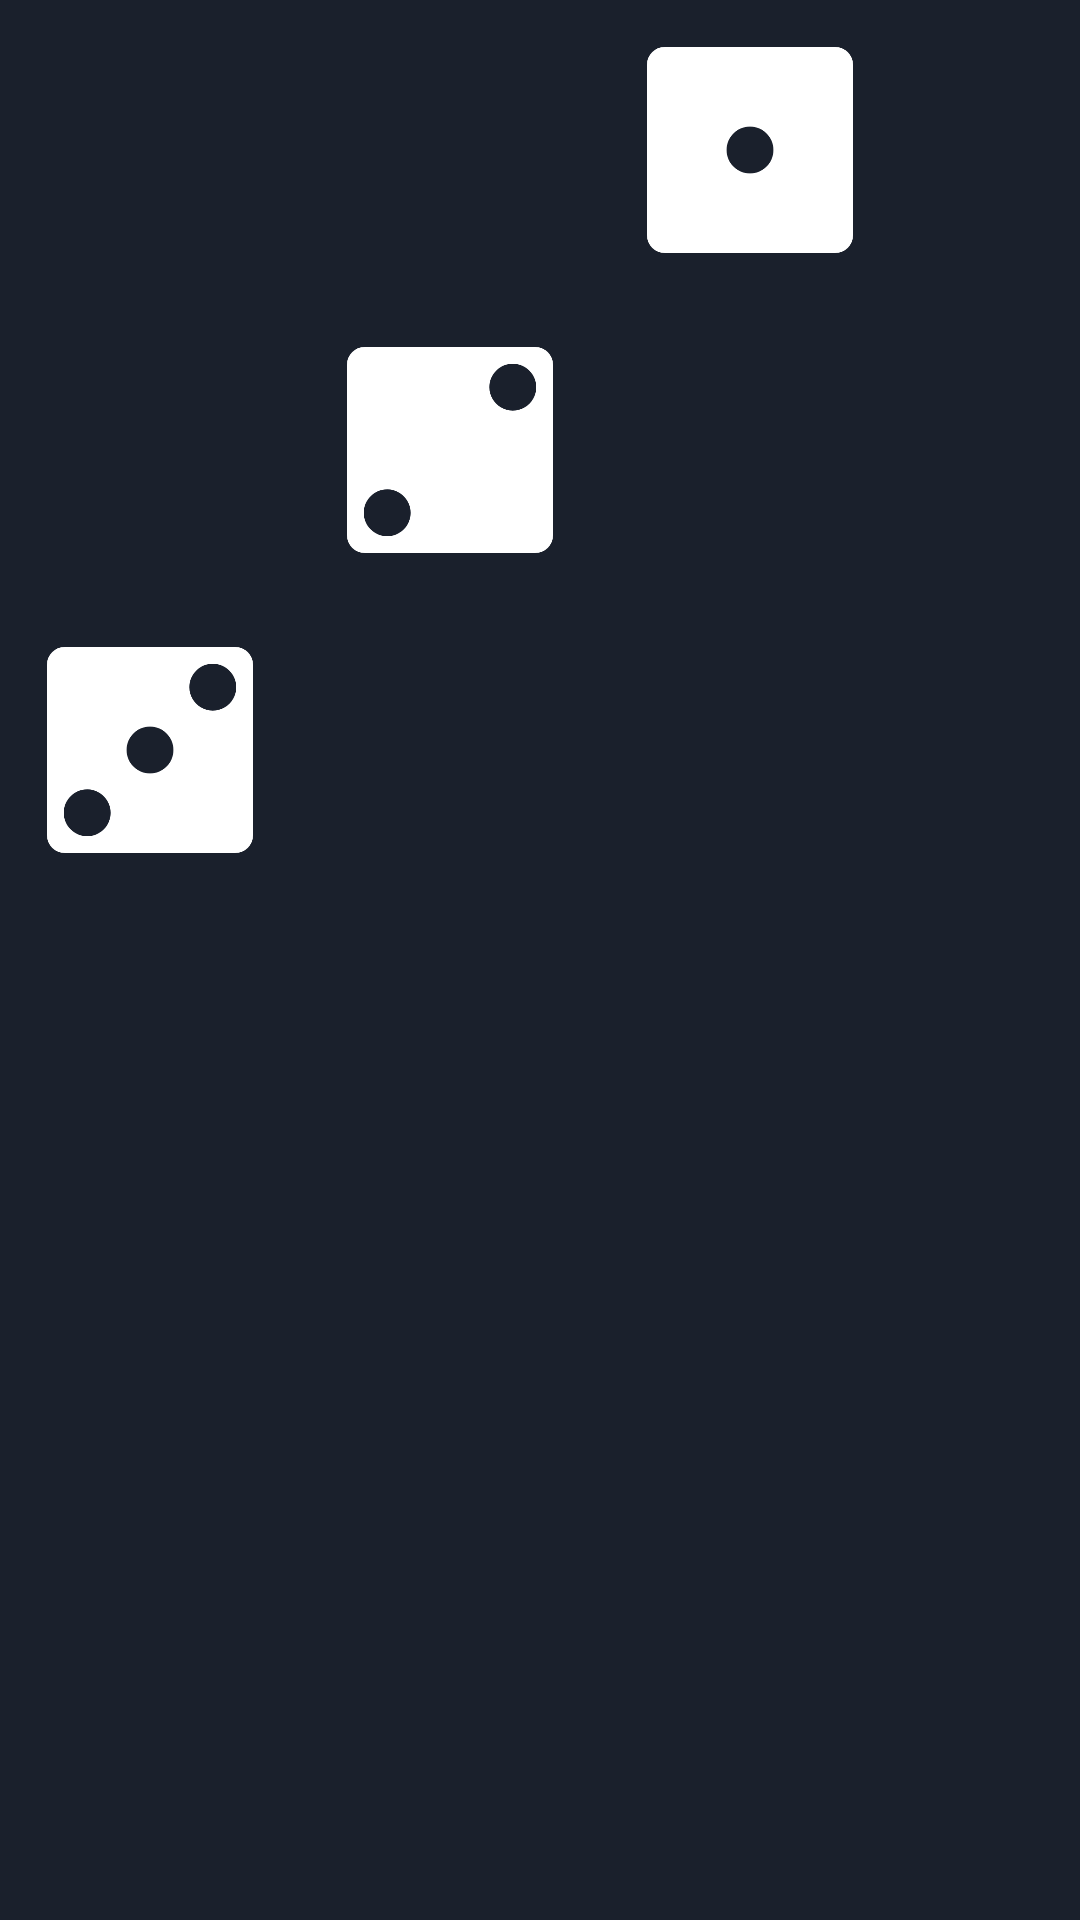

Icon bounding boxes for this 1080 x 1920 phone screenshot, format {"left": x1, "top": y1, "right": x2, "bottom": y2}:
dice: {"left": 647, "top": 47, "right": 853, "bottom": 253}, {"left": 347, "top": 347, "right": 553, "bottom": 553}, {"left": 47, "top": 647, "right": 253, "bottom": 853}
